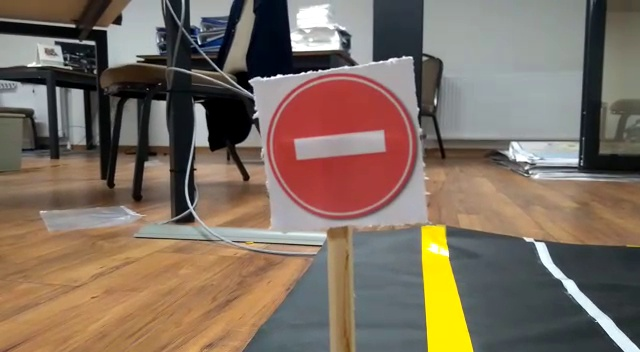girisi_olmayan_yol: (250, 69, 423, 223)
